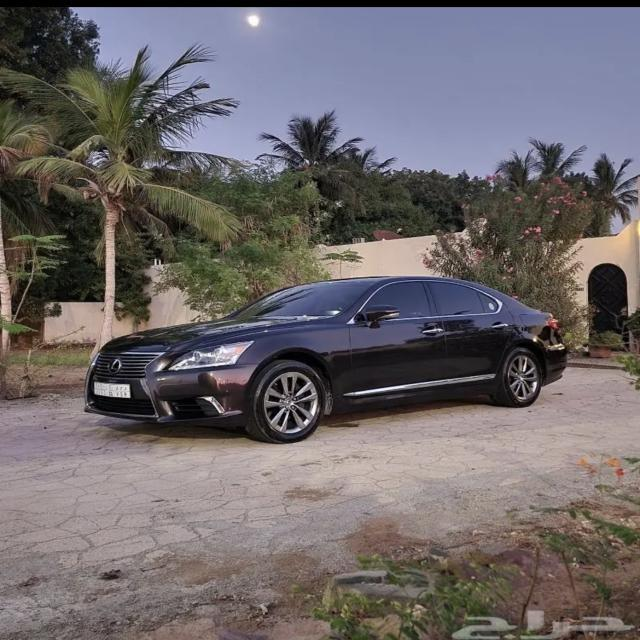license_plate: (94, 381, 132, 399)
